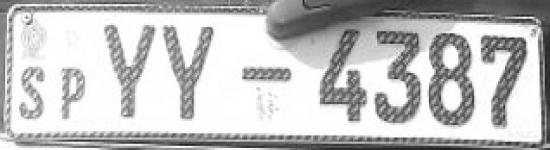-: (237, 58, 293, 88)
3: (373, 25, 426, 131)
4: (316, 23, 373, 126)
7: (476, 29, 534, 134)
8: (424, 25, 478, 135)
P: (54, 63, 91, 126)
S: (16, 61, 50, 128)
Y: (158, 20, 224, 129), (100, 18, 160, 130)
